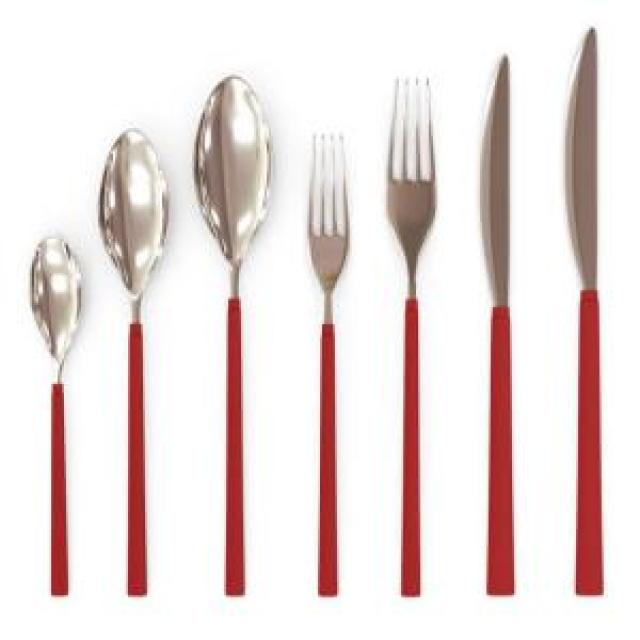knife: (563, 21, 606, 592), (484, 47, 515, 599)
